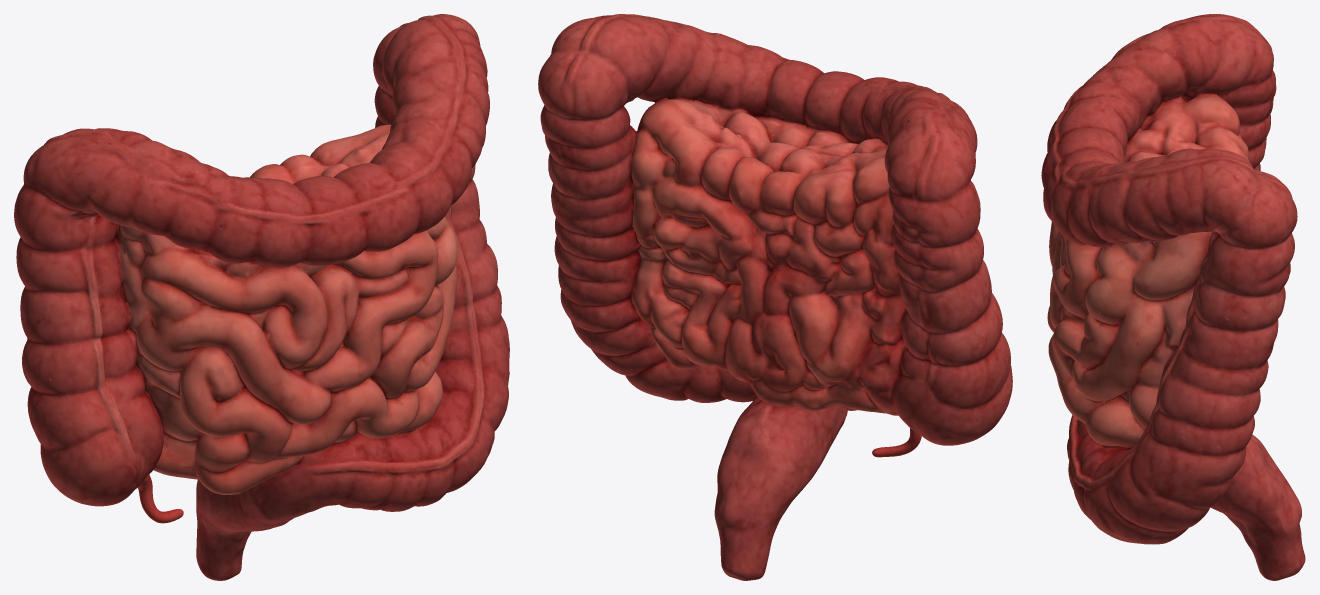
Rendered from Intestinos.glb.
The picture shows the model from 3 angles, left to right: view 1: azimuth 30°, elevation 25°; view 2: azimuth 150°, elevation 25°; view 3: azimuth 270°, elevation 25°; orthographic projection. The views are drawn at different scales.
Visible parts, largest first — view 1: geometry_0; view 2: geometry_0; view 3: geometry_0.
Part boxes in pixels (x1=…): geometry_0: x1=14, y1=14, x2=509, y2=580; geometry_0: x1=538, y1=14, x2=1012, y2=580; geometry_0: x1=1041, y1=14, x2=1305, y2=580.
Bounding box in the file's own units: 0.9111 × 1 × 0.4726.
1 material, 1 textured.
